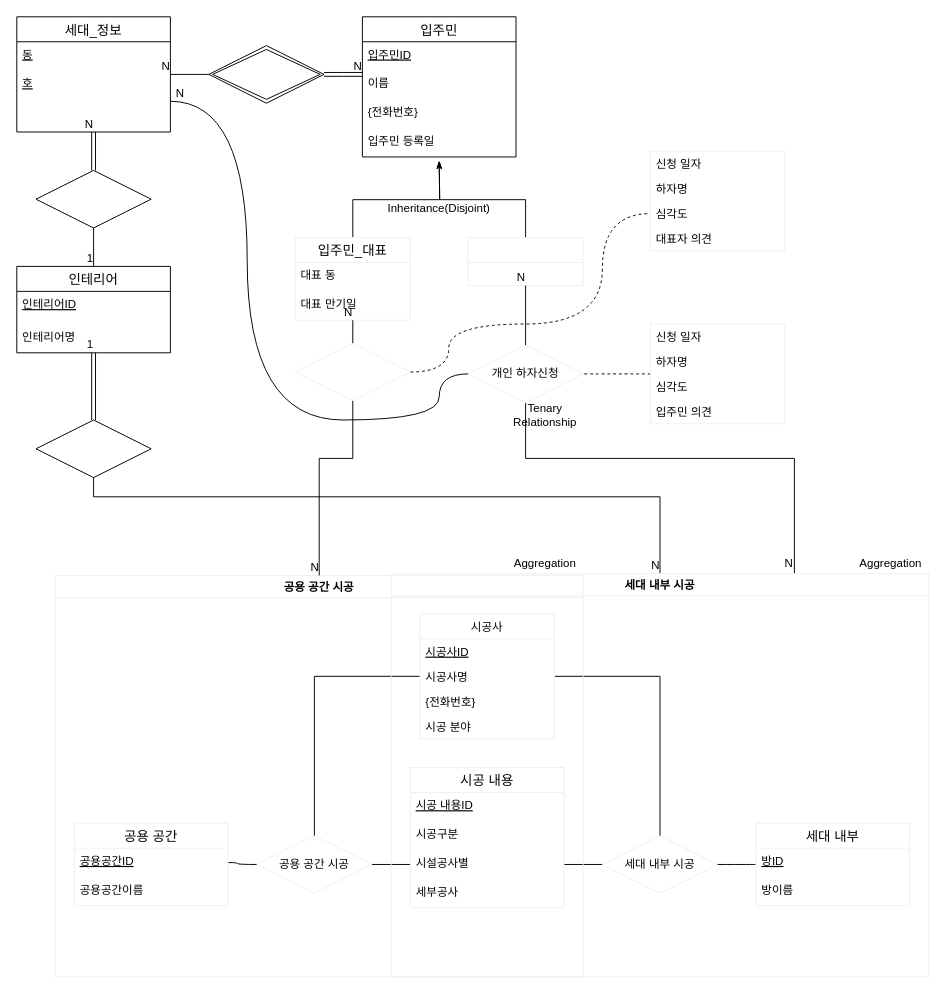
Image size: 946x994. Some labels were removed from this diagram. Here are the shapes that lost their labels. From the top down, the centre of each, then its label:
At (266,74): "입주".
At (93,198): "인테리어 적용".
At (525,261): "입주민_일반".
At (352,371): "공유 하자신청".
At (93,448): "인테리어별 시공".
